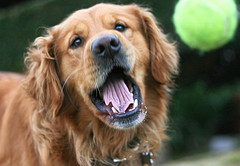tennis ball: (171, 1, 237, 51)
